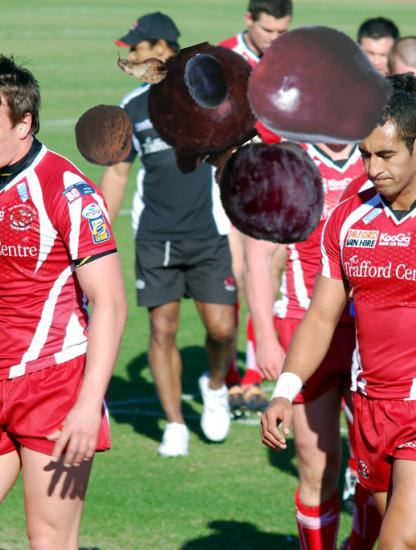Apple: (248, 19, 392, 163)
Blueberry: (177, 53, 234, 110)
Mangostan: (136, 44, 284, 192)
Pear: (116, 42, 169, 95)
Plum: (216, 136, 331, 251)
Walnut: (73, 104, 137, 168)
